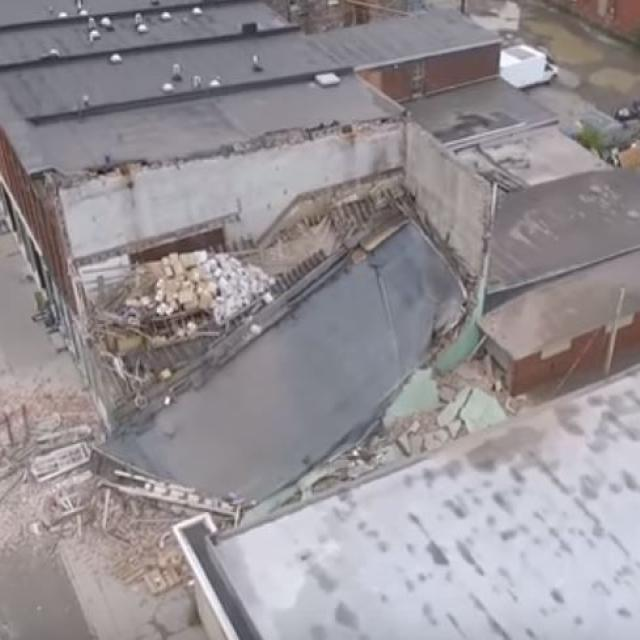collapsed_building: (73, 204, 482, 524)
